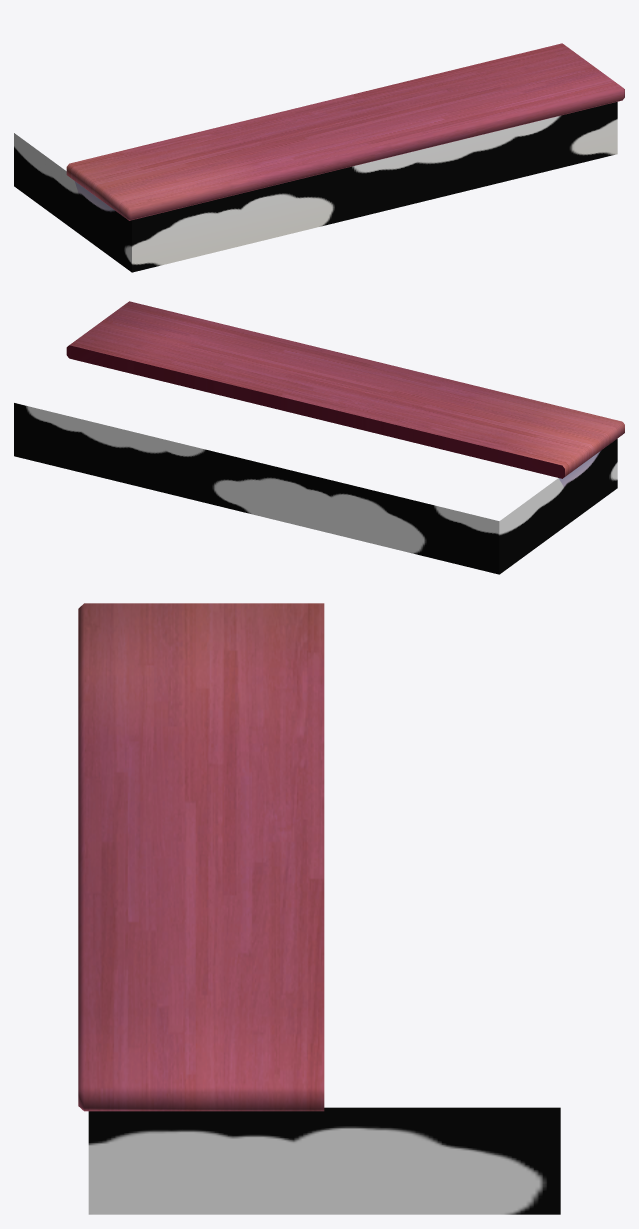
The picture shows the model from 3 angles, top to bottom: view 1: azimuth 30°, elevation 25°; view 2: azimuth 150°, elevation 25°; view 3: azimuth 270°, elevation 25°; orthographic projection. The views are drawn at different scales.
Parts seen in each view (by area): view 1: Joint_0_Object_1, Joint_0_Object_0; view 2: Joint_0_Object_1, Joint_0_Object_0; view 3: Joint_0_Object_1, Joint_0_Object_0.
Boxes of the visible parts, x1,y1,x2,y2 form: Joint_0_Object_1: [66, 43, 624, 220]; Joint_0_Object_0: [14, 102, 617, 272]; Joint_0_Object_1: [66, 301, 624, 478]; Joint_0_Object_0: [14, 403, 617, 574]; Joint_0_Object_1: [78, 603, 324, 1111]; Joint_0_Object_0: [88, 1107, 560, 1214].
Bounding box in the file's own units: 3900 × 500 × 1635.
2 materials, 2 textured.
